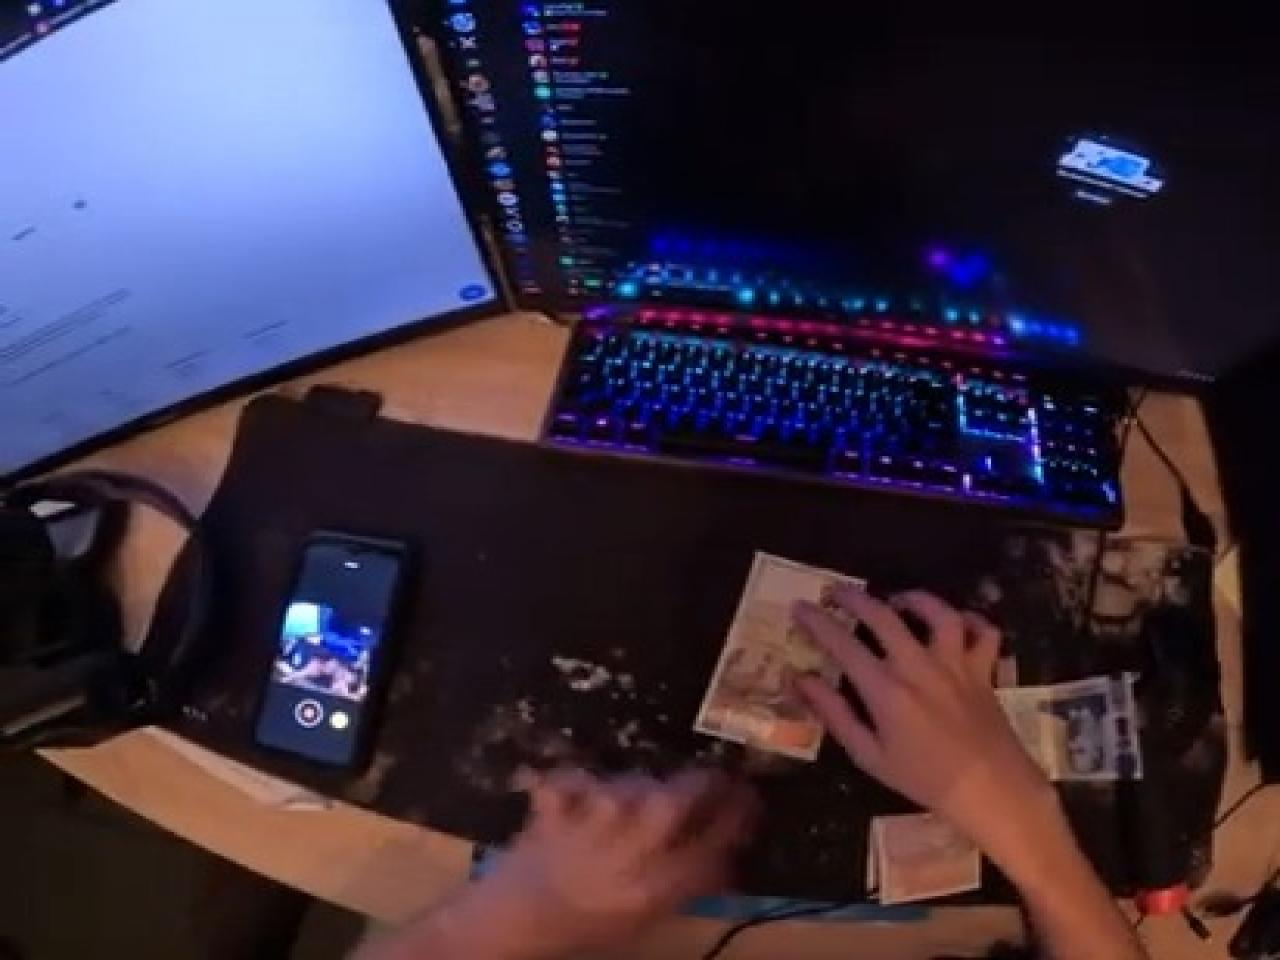50leva: (692, 555, 852, 762)
